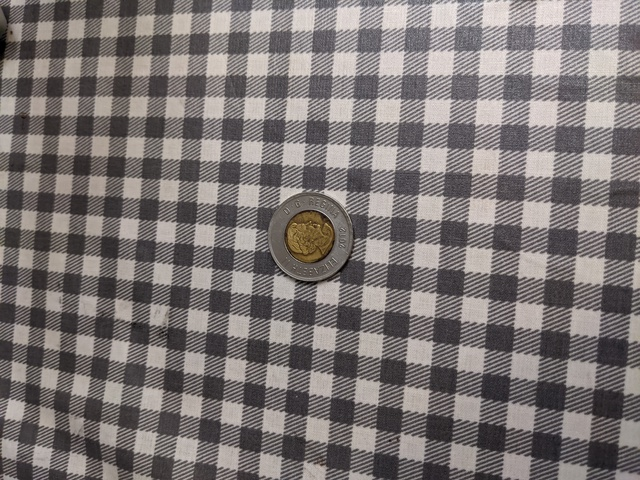twonie: (258, 190, 359, 293)
